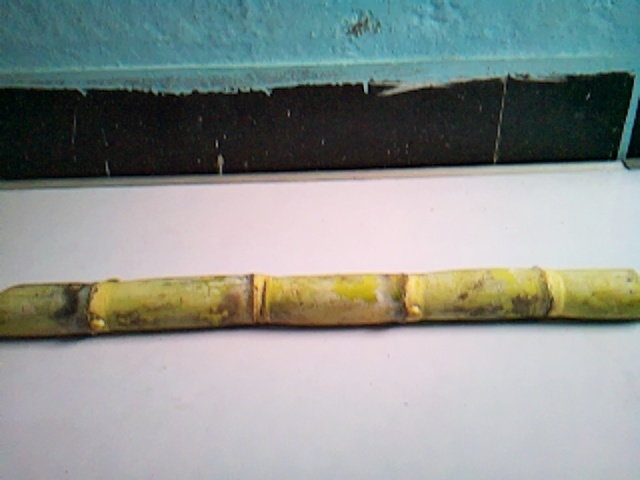Good Sugarcane: (3, 265, 640, 342)
Node: (62, 271, 130, 337), (226, 271, 282, 328), (522, 258, 566, 323), (384, 266, 431, 326)
